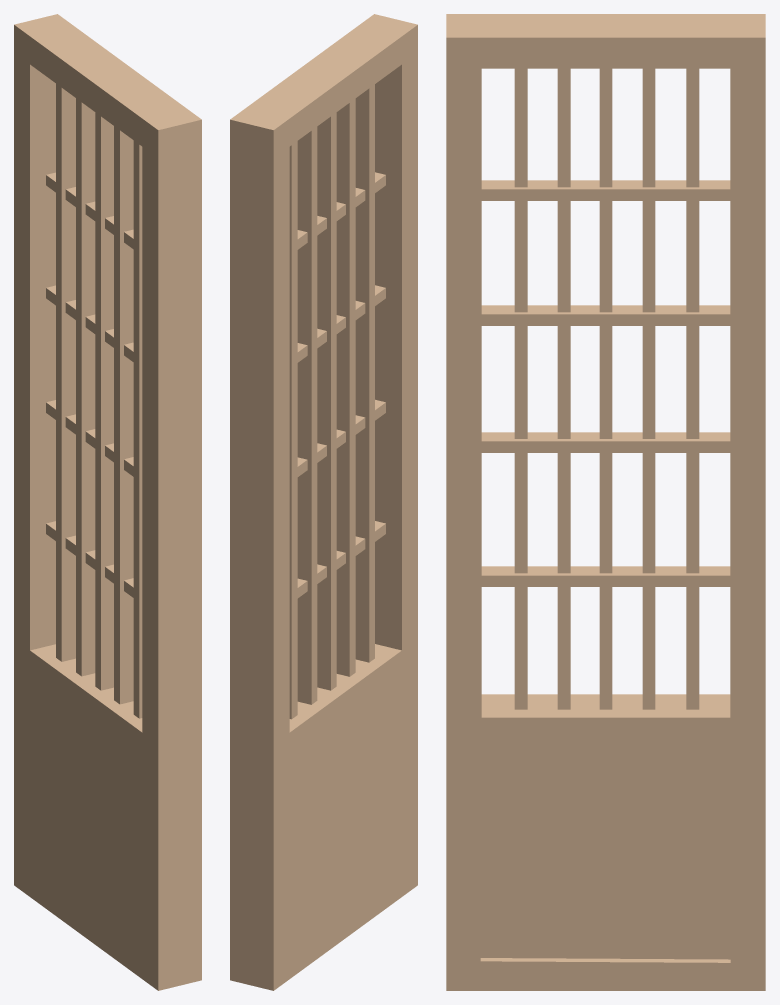
File: patiodoor.glb
The picture shows the model from 3 angles, left to right: view 1: azimuth 30°, elevation 25°; view 2: azimuth 150°, elevation 25°; view 3: azimuth 270°, elevation 25°; orthographic projection. The views are drawn at different scales.
Parts seen in each view (by area): view 1: patio door.002; view 2: patio door.002; view 3: patio door.002.
Part boxes in pixels (left/top/right/bottom): patio door.002: left=14, top=14, right=201, bottom=990; patio door.002: left=230, top=14, right=417, bottom=990; patio door.002: left=446, top=14, right=765, bottom=990.
Bounding box in the file's own units: 0.1438 × 2.71 × 0.823.
